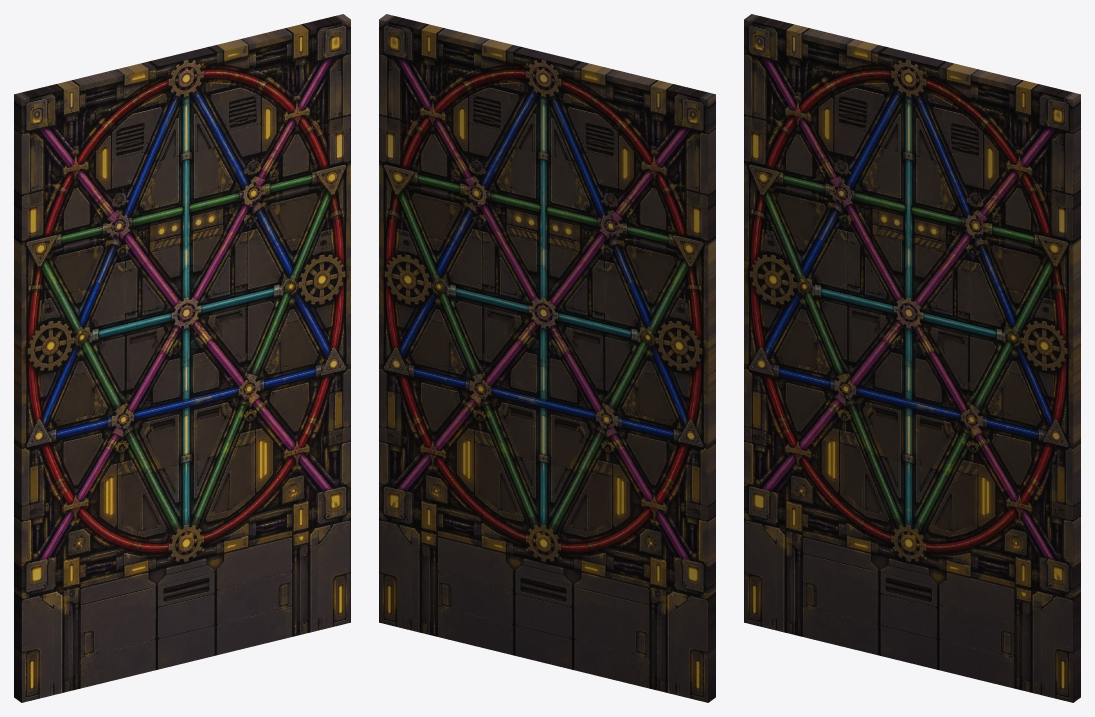
File: door.glb
3 renders of one model, left to right at view 1: azimuth 30°, elevation 25°; view 2: azimuth 150°, elevation 25°; view 3: azimuth 330°, elevation 25°, orthographic.
Visible parts, largest first — view 1: Grid; view 2: Grid; view 3: Grid.
Part boxes in pixels (<box>): Grid: <box>14,14,350,702</box>; Grid: <box>379,14,715,702</box>; Grid: <box>744,14,1080,702</box>.
Size of the model in its own units: 1 by 1.75 by 0.0399.
1 material, 1 textured.
